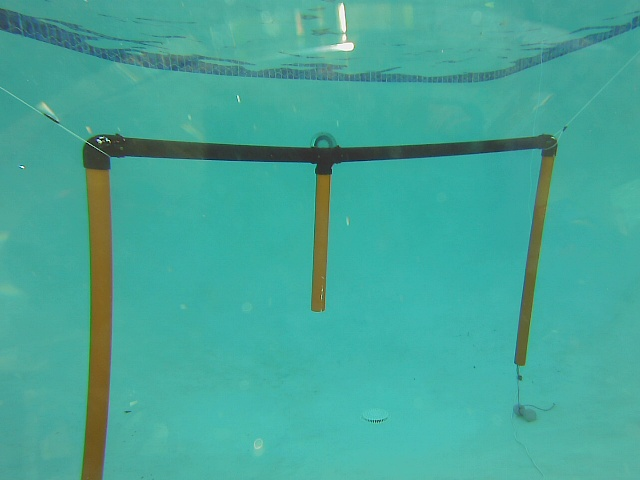Gate: (77, 167, 115, 480), (512, 152, 556, 369), (307, 170, 333, 316)
